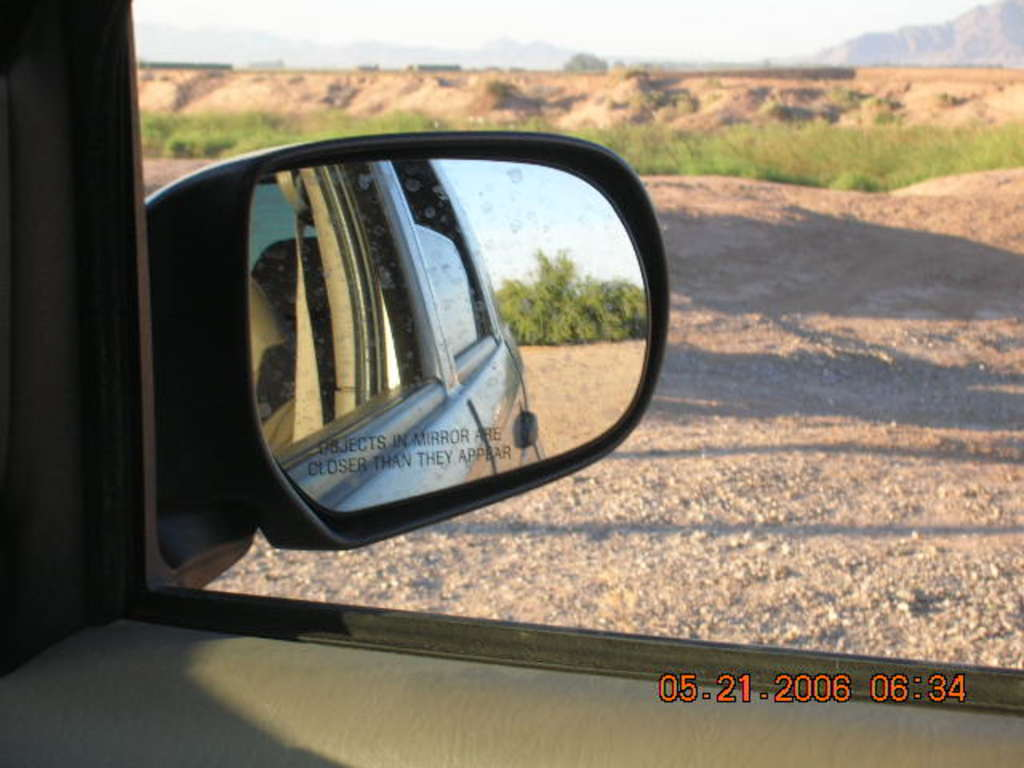Tree: (560, 44, 608, 70)
